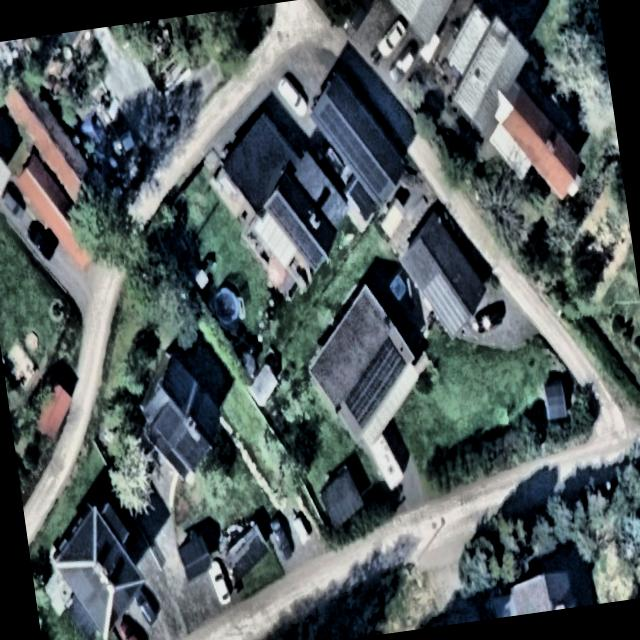roof_pv: (422, 269, 473, 344), (368, 332, 414, 404), (342, 368, 386, 432), (290, 222, 326, 272), (266, 193, 300, 242), (318, 98, 352, 142), (340, 131, 374, 174), (153, 400, 185, 444), (360, 157, 391, 199), (178, 432, 210, 468)
